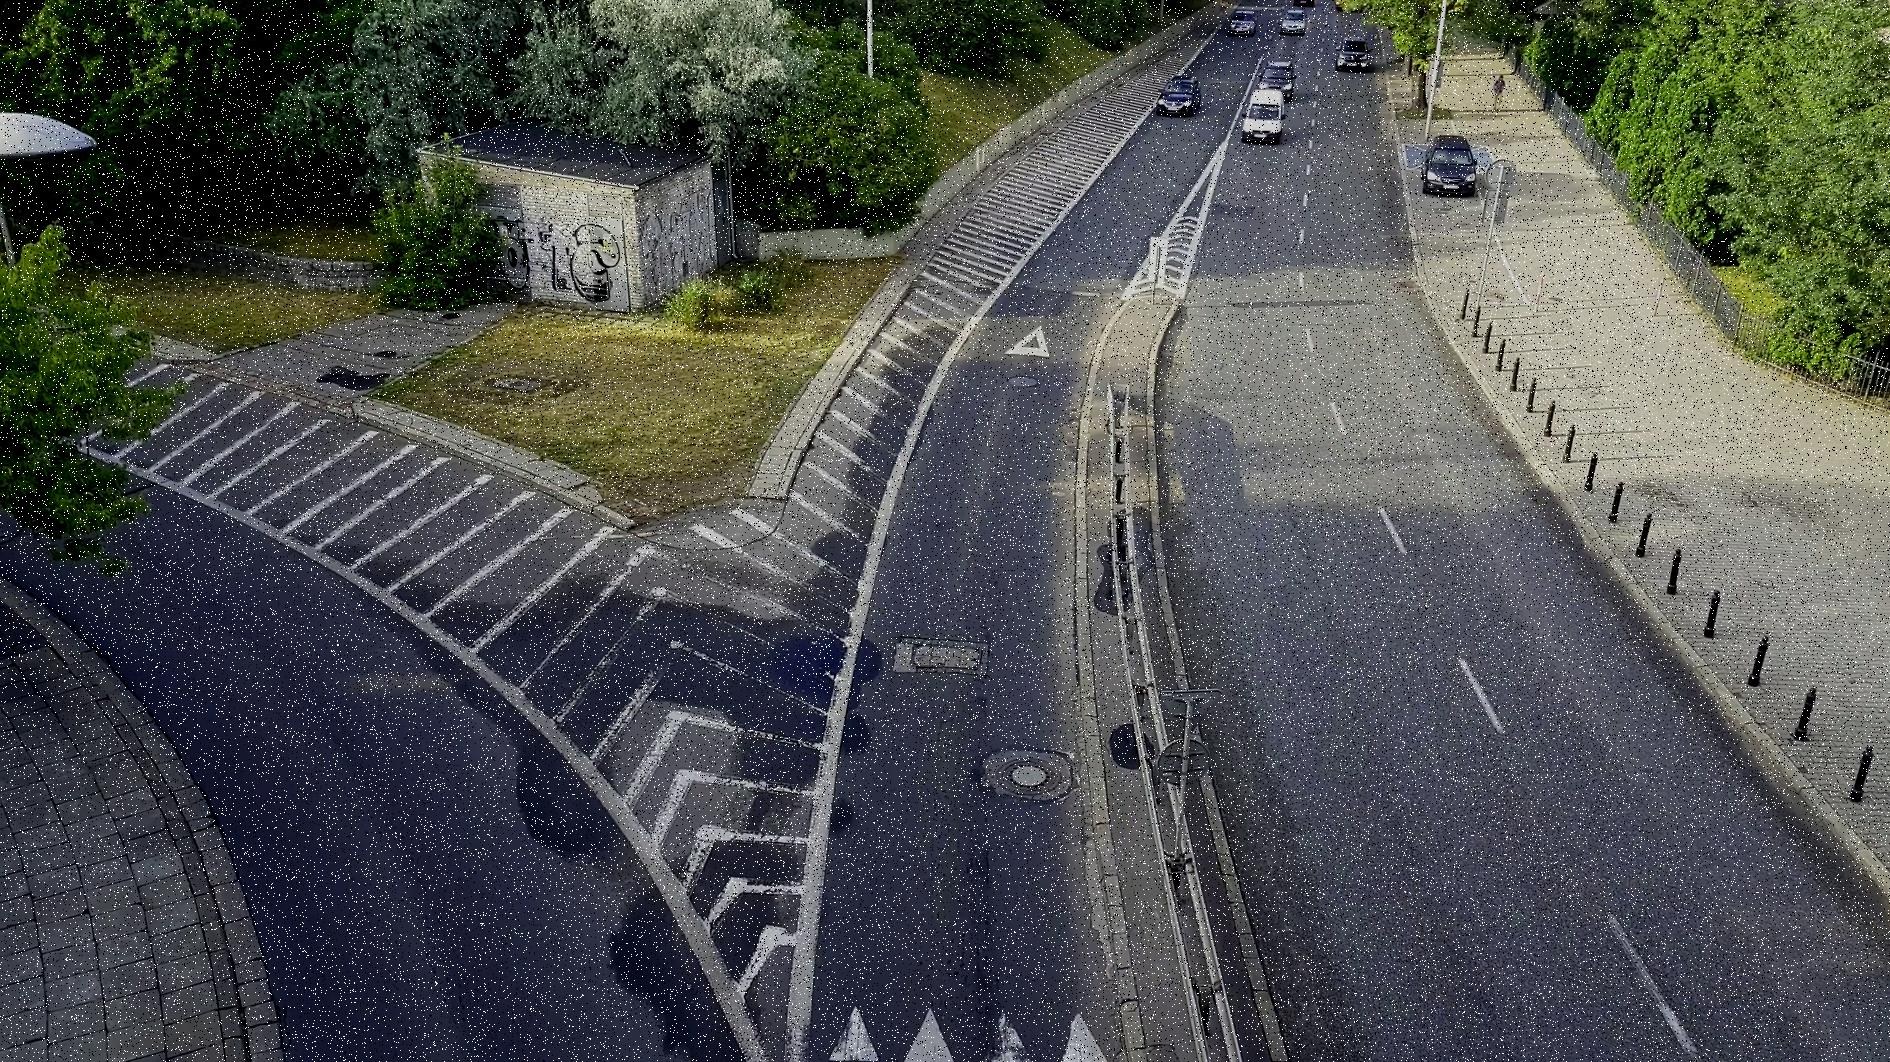car: (1414, 131, 1479, 198), (1227, 89, 1294, 154), (1153, 70, 1210, 124), (1336, 28, 1375, 76), (1258, 55, 1301, 98), (1279, 4, 1310, 37)
